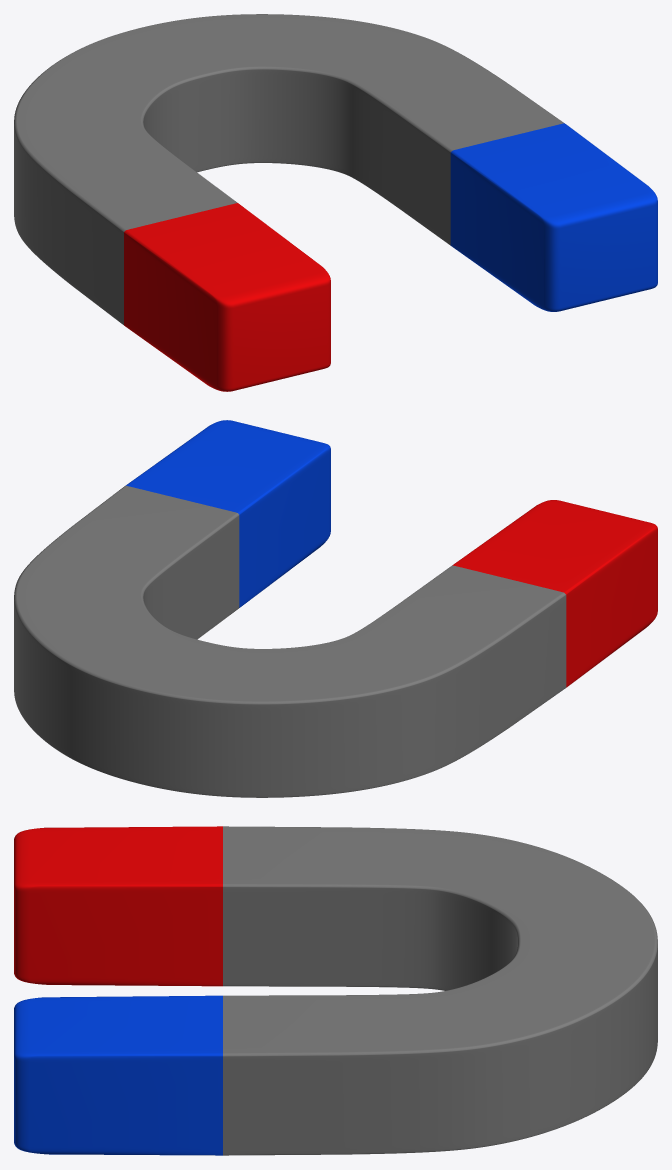
3 renders of one model, top to bottom at view 1: azimuth 30°, elevation 25°; view 2: azimuth 150°, elevation 25°; view 3: azimuth 270°, elevation 25°, orthographic. The views are drawn at different scales.
Parts seen in each view (by area): view 1: 平面.001; view 2: 平面.001; view 3: 平面.001.
Part boxes in pixels (<box>): 平面.001: <box>14,14,657,391</box>; 平面.001: <box>14,420,657,797</box>; 平面.001: <box>14,826,657,1155</box>.
Bounding box in the file's own units: 228 × 47.52 × 271.
